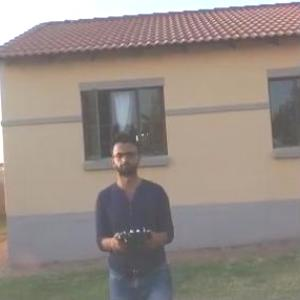follow: (92, 124, 180, 299)
